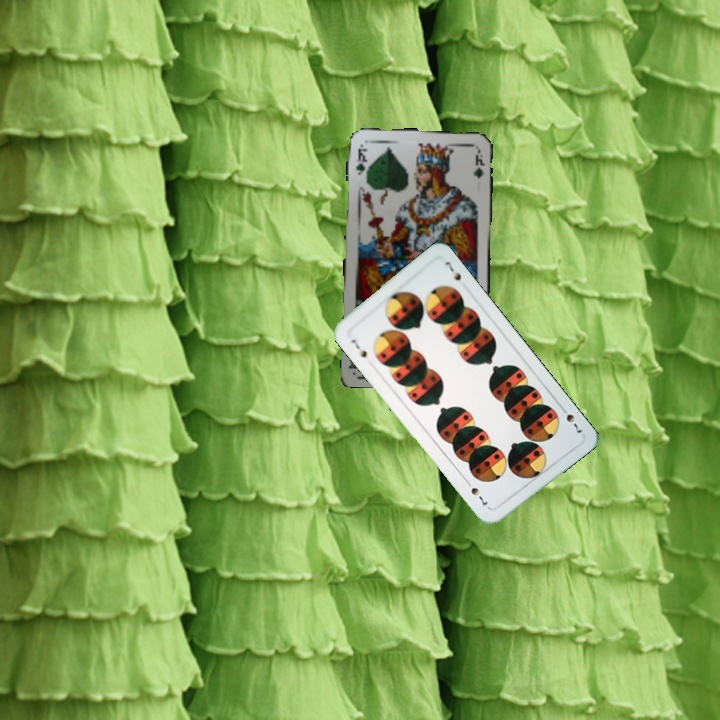GK: (352, 142, 370, 182)
S7: (556, 402, 585, 436), (347, 335, 370, 360)
